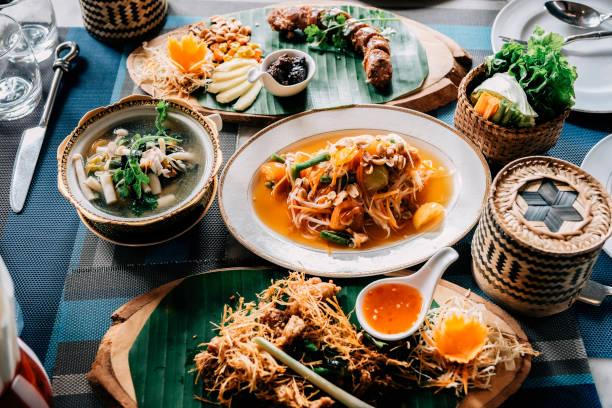Braised Crucian Carp: (96, 264, 525, 404), (217, 104, 489, 276), (124, 0, 457, 112), (52, 93, 219, 244)
